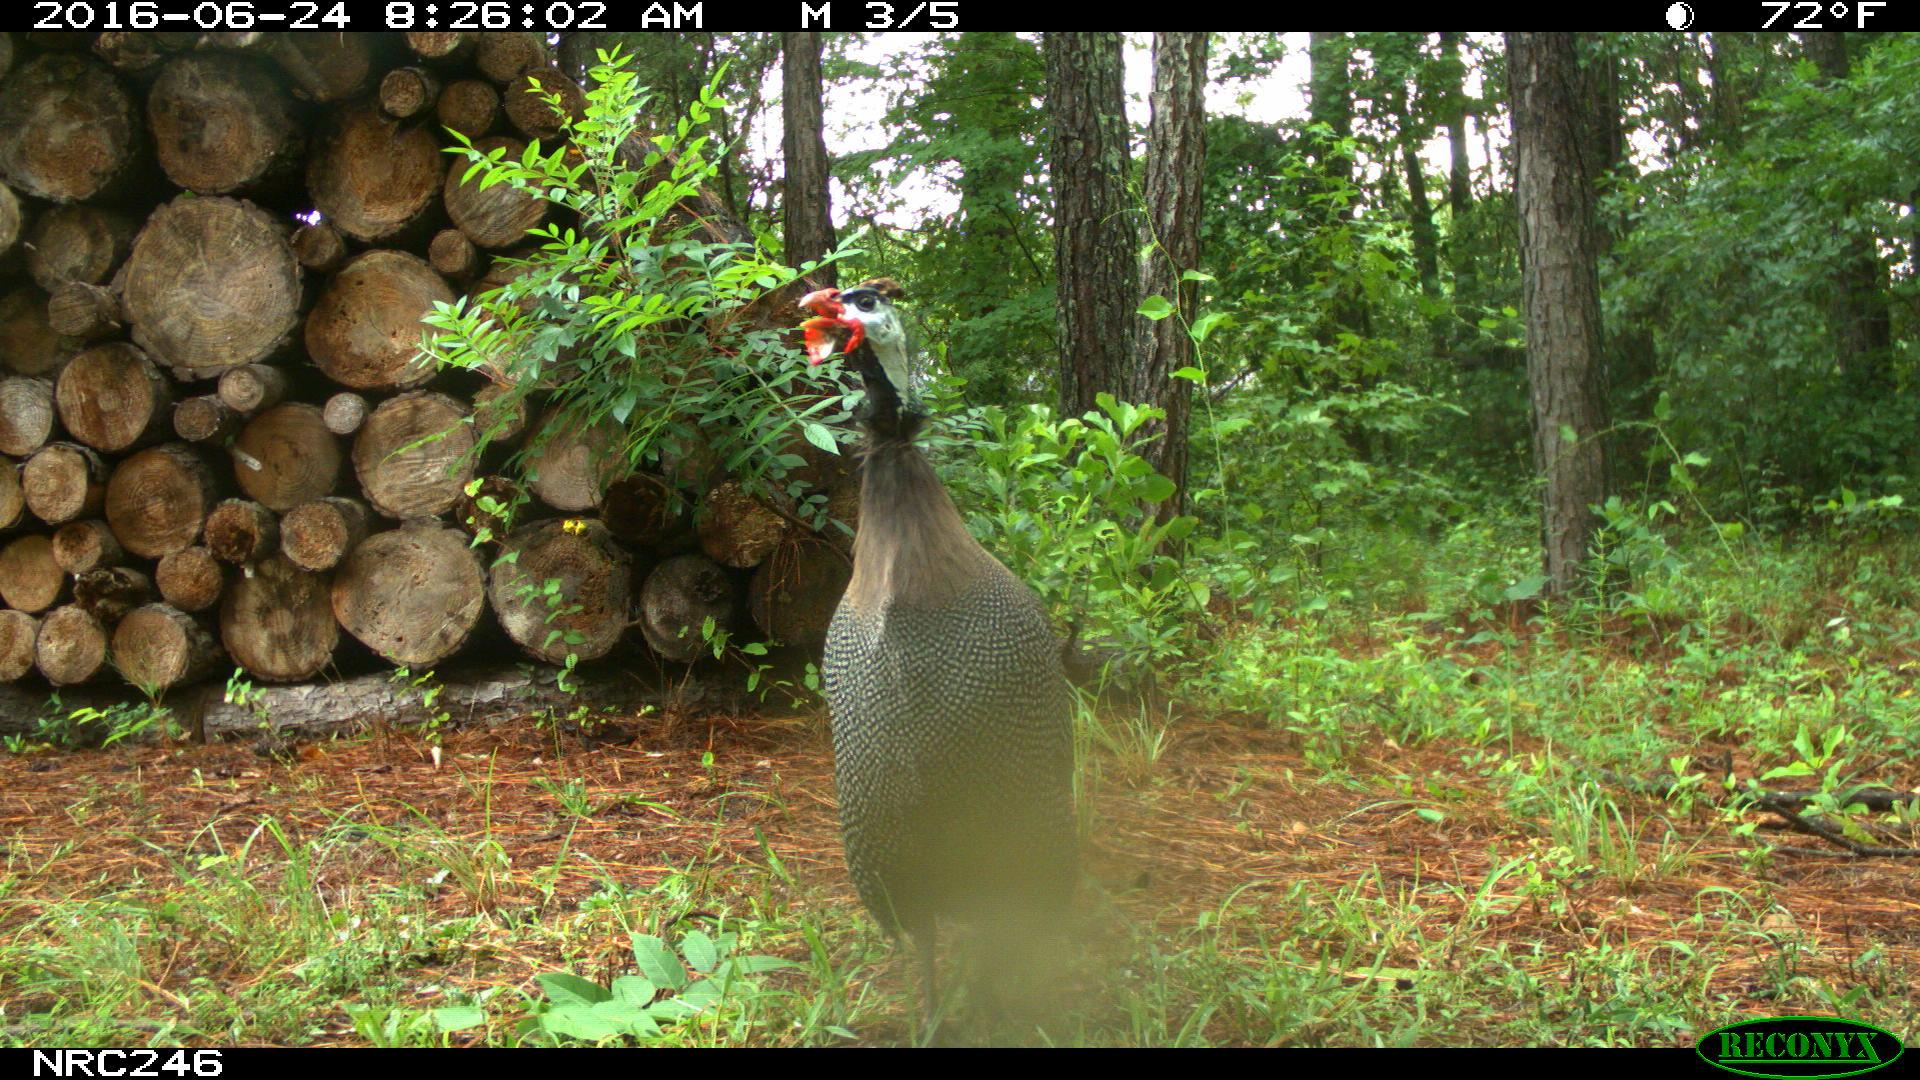Animal: (795, 281, 1077, 1040)
